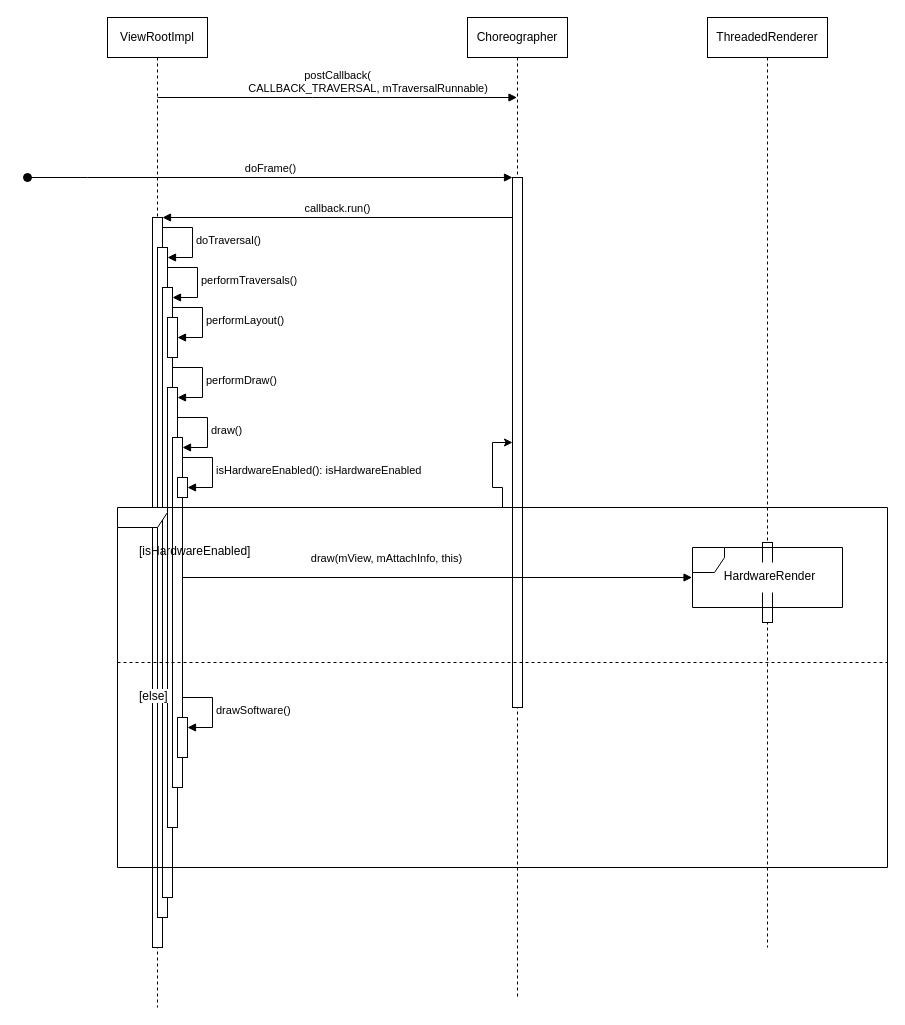
Image size: 905x1025. Some labels were removed from this diagram. The centre of each missing label's shape, as x and y in pixels:
"alt" goes at point 502,687.
"Ref" goes at point 767,577.
